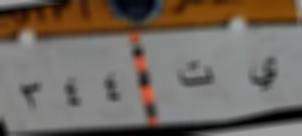3: (19, 75, 48, 116)
4: (60, 75, 88, 113), (103, 70, 126, 111)
taa: (174, 55, 220, 93)
yaa: (244, 53, 282, 92)
